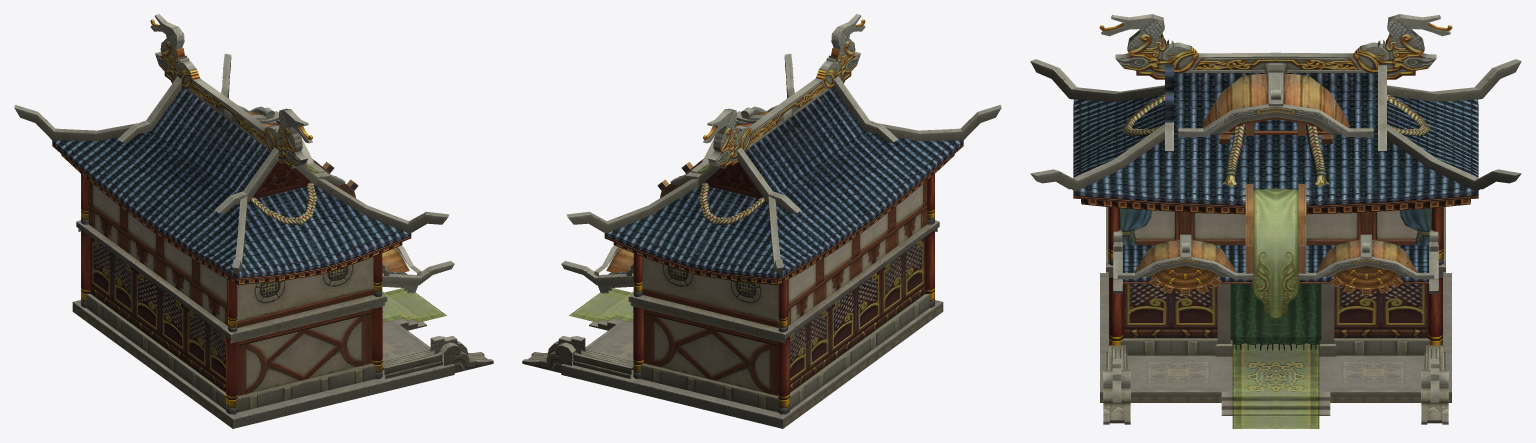
File: cj_luoyang_jianzhu01_56_11_8055out.fbx
The picture shows the model from 3 angles, left to right: view 1: azimuth 30°, elevation 25°; view 2: azimuth 150°, elevation 25°; view 3: azimuth 270°, elevation 25°; orthographic projection. The views are drawn at different scales.
Visible parts, largest first — view 1: cj_luoyang_jianzhu01; view 2: cj_luoyang_jianzhu01; view 3: cj_luoyang_jianzhu01.
Part boxes in pixels (x1,y1,x2,y2): cj_luoyang_jianzhu01: [14, 14, 493, 428]; cj_luoyang_jianzhu01: [522, 14, 1001, 428]; cj_luoyang_jianzhu01: [1030, 14, 1521, 428].
Bounding box in the file's own units: 9.95 × 8.82 × 12.67.
